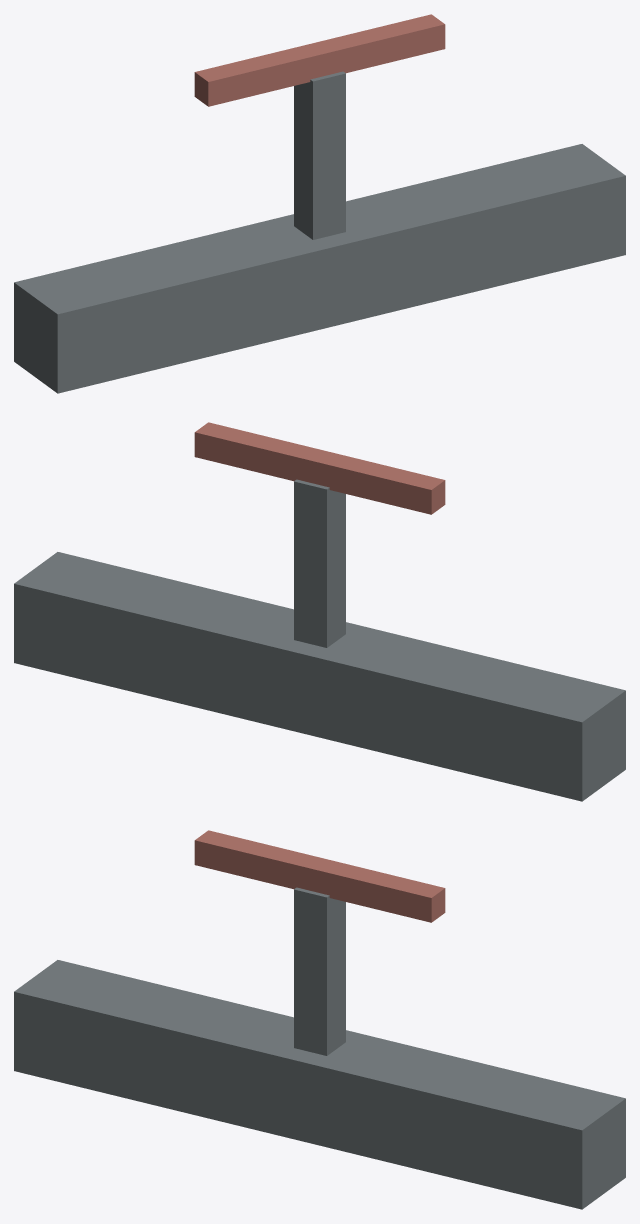
The model's file is pipe_valve.glb.
The picture shows the model from 3 angles, top to bottom: view 1: azimuth 30°, elevation 25°; view 2: azimuth 150°, elevation 25°; view 3: azimuth 330°, elevation 25°; orthographic projection.
Visible parts, largest first — view 1: body; view 2: body; view 3: body.
Part boxes in pixels (<box>): body: <box>14,14,625,393</box>; body: <box>14,422,625,801</box>; body: <box>14,830,625,1209</box>.
Size of the model in its own units: 0.6 by 0.2625 by 0.08.
